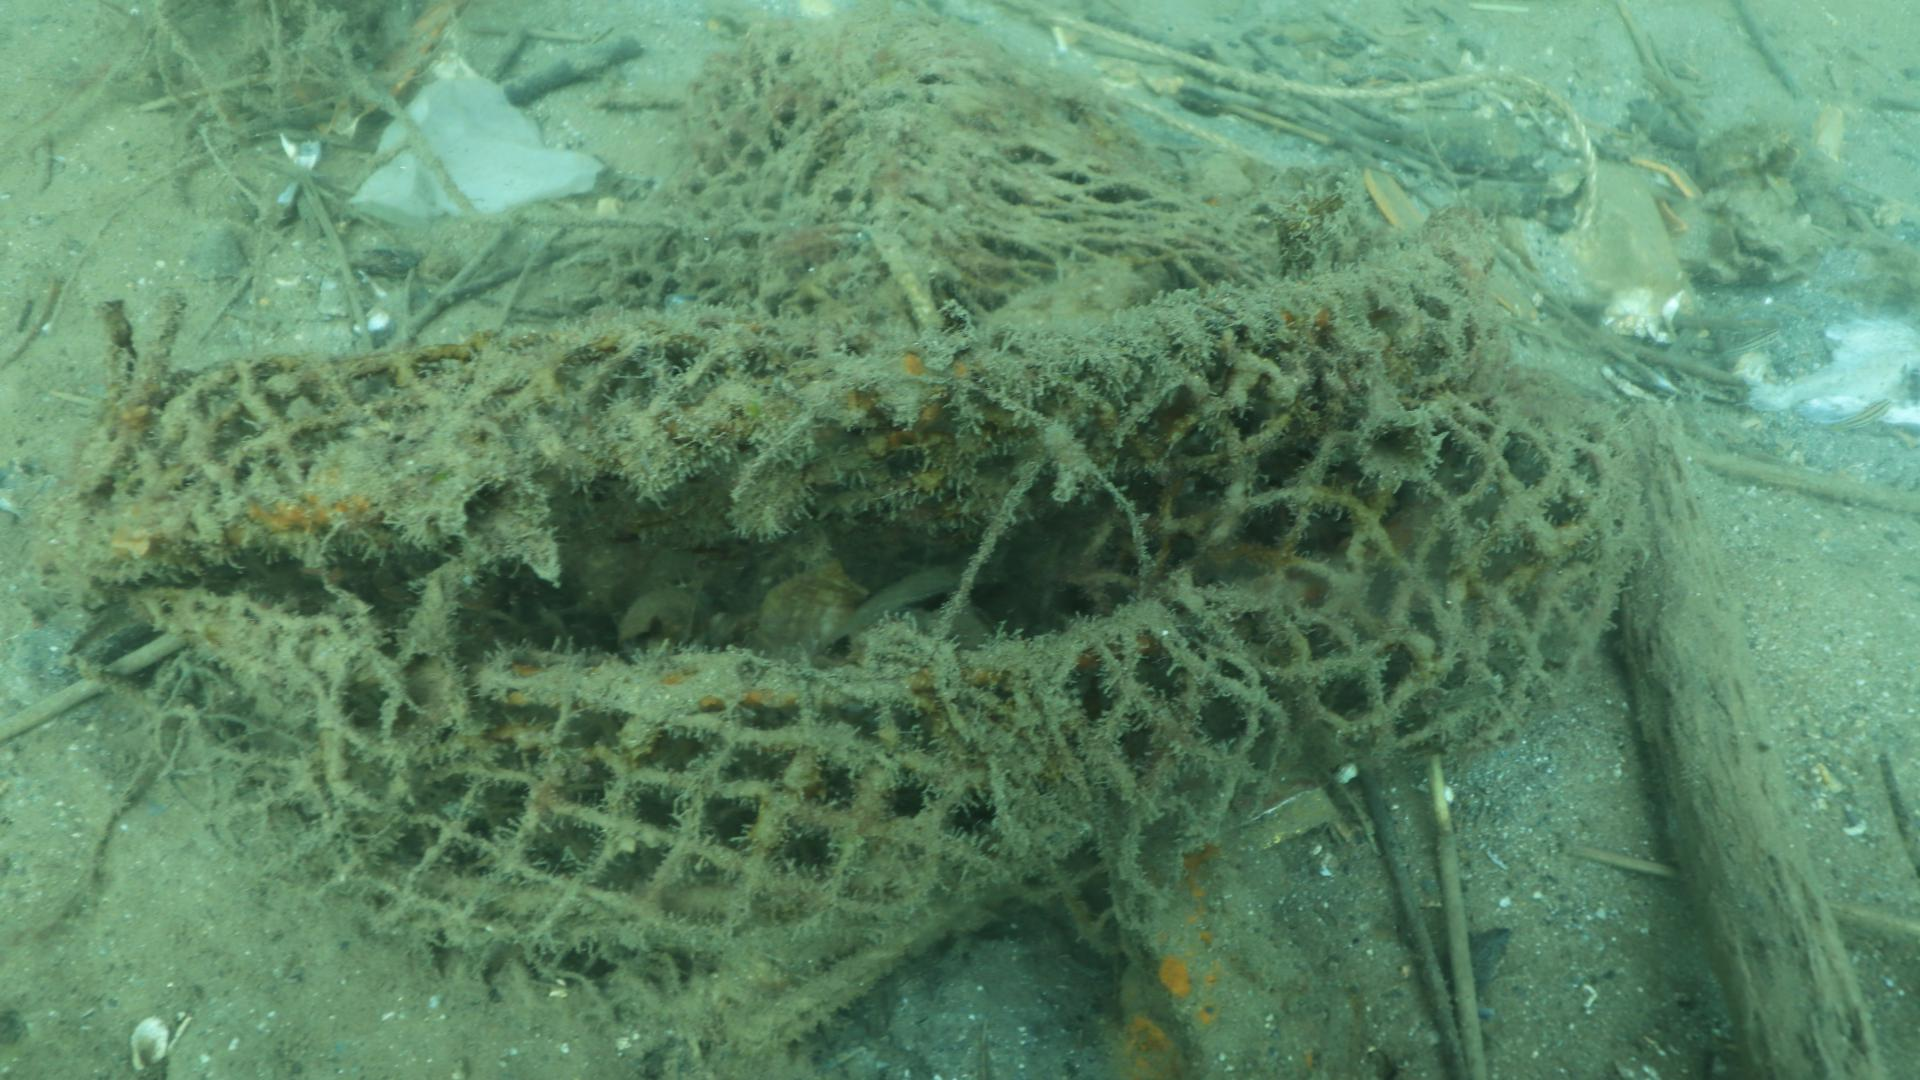fish net: (82, 28, 1644, 944)
wood: (1601, 371, 1896, 1080)
